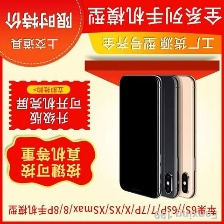phone: (116, 73, 165, 202), (142, 73, 181, 199), (162, 73, 197, 201)
